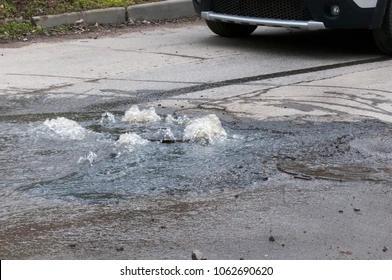water_leak: (0, 102, 392, 198)
